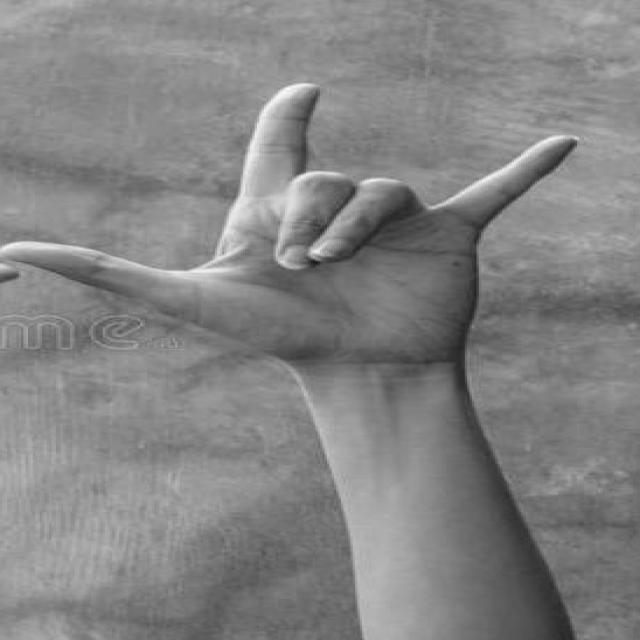i love you: (0, 71, 589, 407)
